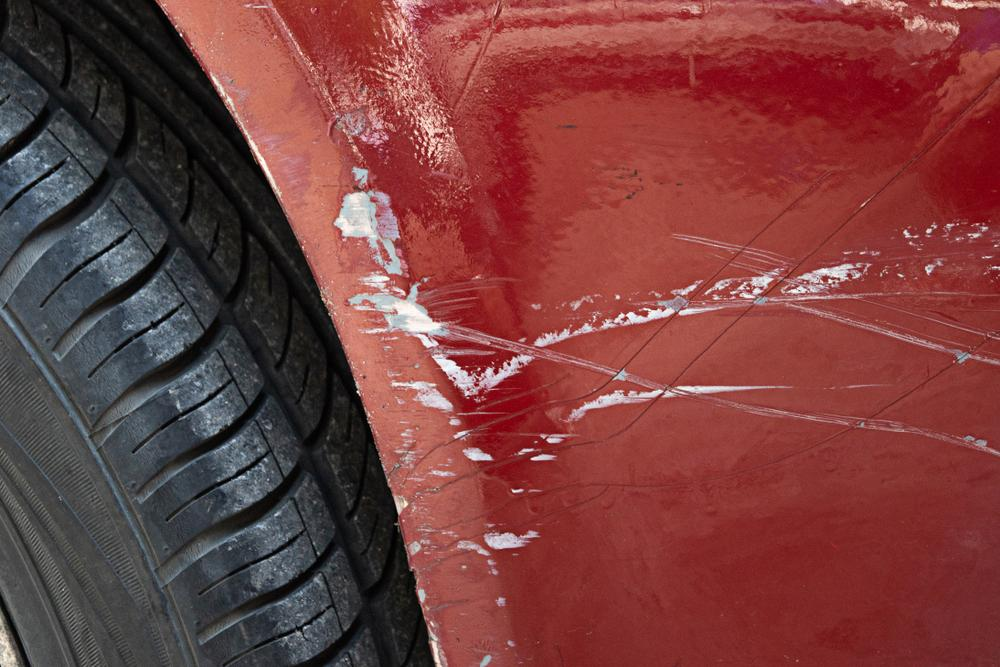scratch: (322, 162, 1000, 667)
